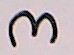sum: (2, 3, 64, 48)
